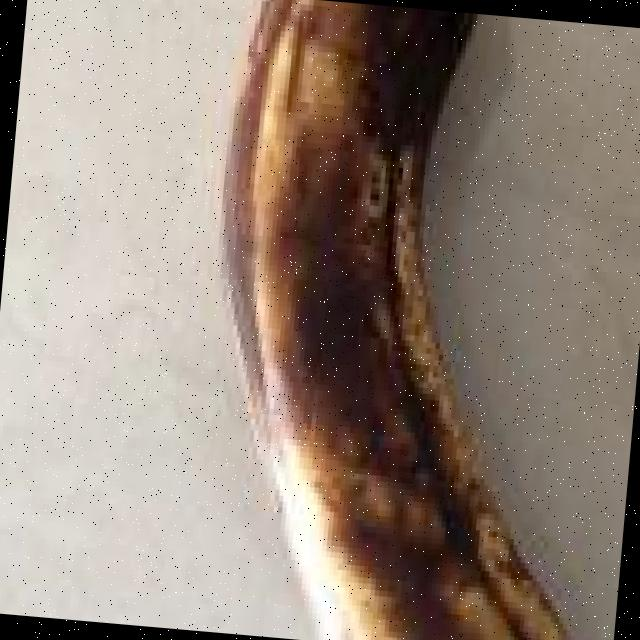Bad_Banana-0 day: (223, 0, 567, 640)
